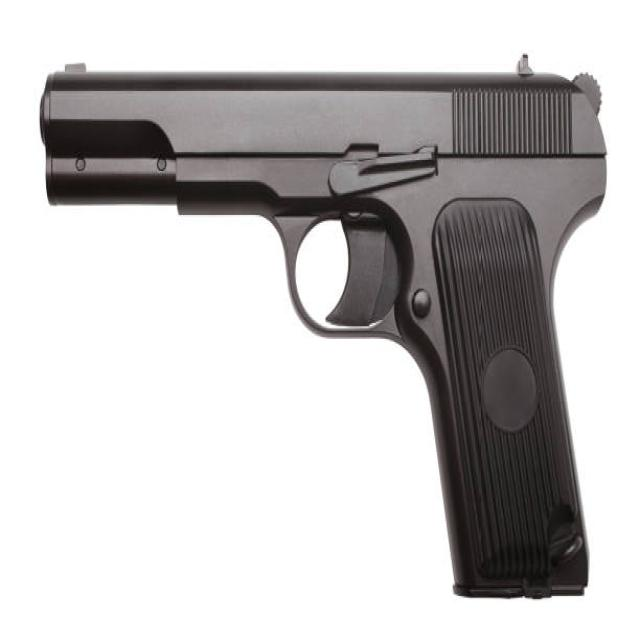pistol: (38, 47, 614, 607)
